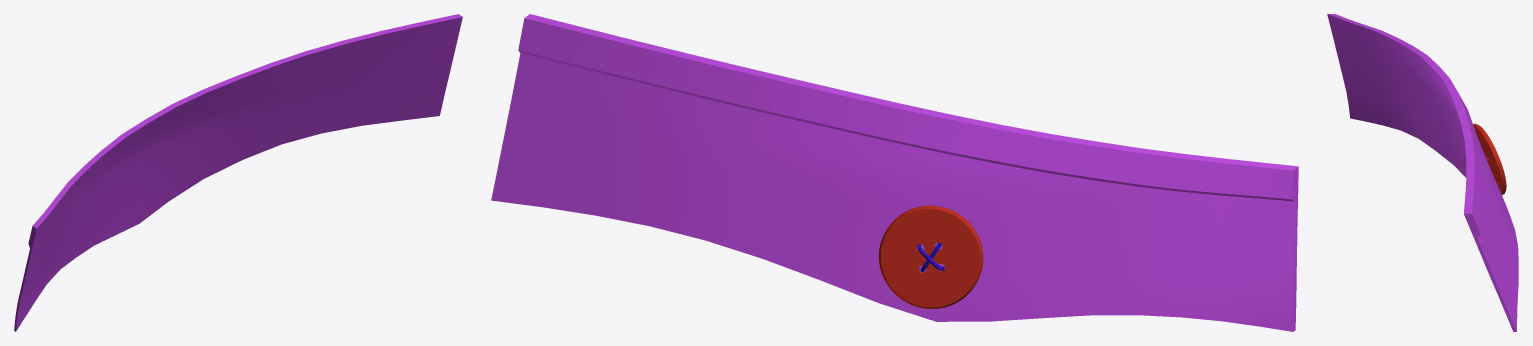
File: SM_CarlosSA_Trousers_BackPockets_1FlapsRB.fbx
The picture shows the model from 3 angles, left to right: view 1: azimuth 30°, elevation 25°; view 2: azimuth 150°, elevation 25°; view 3: azimuth 270°, elevation 25°; orthographic projection. The views are drawn at different scales.
Visible parts, largest first — view 1: SM_CarlosSA_Trousers_BackPockets_1FlapsRB; view 2: SM_CarlosSA_Trousers_BackPockets_1FlapsRB; view 3: SM_CarlosSA_Trousers_BackPockets_1FlapsRB.
Part boxes in pixels (x1,y1,x2,y2): SM_CarlosSA_Trousers_BackPockets_1FlapsRB: (14, 14, 462, 331); SM_CarlosSA_Trousers_BackPockets_1FlapsRB: (491, 14, 1298, 331); SM_CarlosSA_Trousers_BackPockets_1FlapsRB: (1327, 14, 1518, 331).
Size of the model in its own units: 0.0912 by 0.026 by 0.03.
